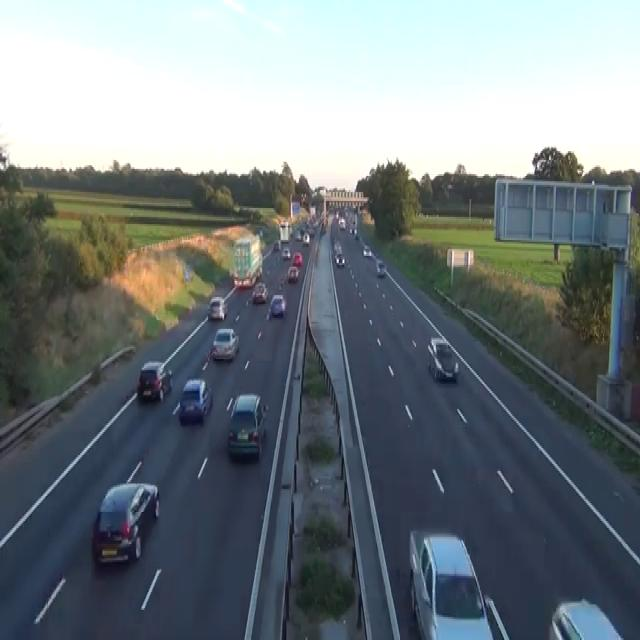Car: (408, 530, 494, 638), (91, 482, 159, 565), (550, 598, 625, 638), (226, 393, 268, 459), (137, 359, 172, 402), (179, 379, 212, 423), (427, 336, 458, 382), (482, 594, 511, 638), (211, 327, 239, 361), (206, 295, 227, 320), (269, 294, 286, 316), (252, 281, 268, 304), (233, 270, 253, 288), (333, 242, 345, 266), (287, 265, 299, 283), (183, 265, 193, 283), (375, 260, 386, 276), (292, 251, 302, 265), (335, 252, 345, 266), (281, 247, 291, 260), (362, 244, 371, 256), (333, 242, 342, 254), (302, 231, 309, 244), (273, 238, 280, 251), (349, 224, 357, 235), (338, 217, 345, 229), (278, 277, 284, 290), (306, 226, 315, 234), (294, 231, 301, 240), (299, 226, 305, 236), (321, 222, 326, 233), (353, 230, 358, 238)
Truck: (231, 233, 262, 288), (278, 220, 291, 242)
